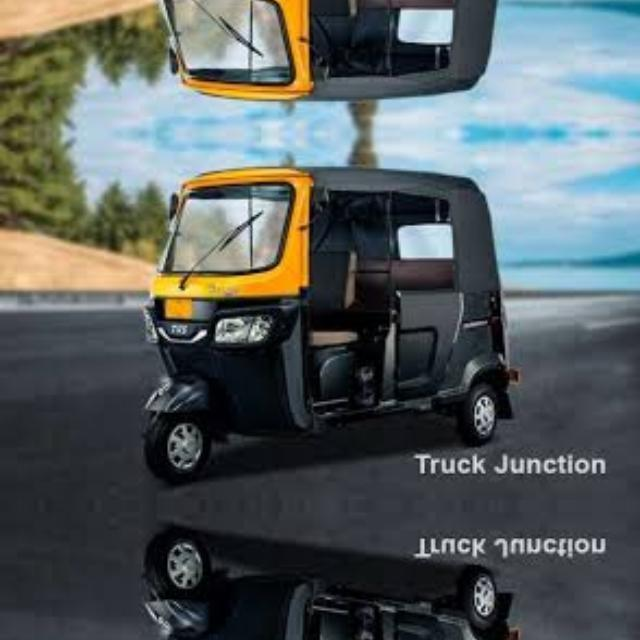obstacle: (94, 144, 546, 490), (93, 0, 546, 121), (93, 521, 546, 640)
